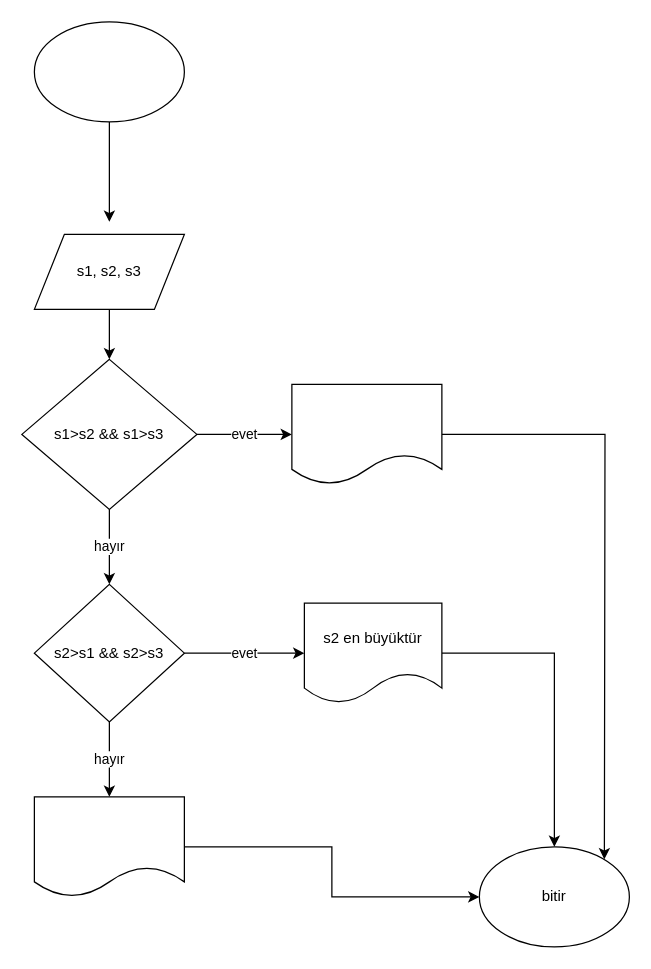
The diagram is 651 pixels wide and 969 high, and some of its shapes have lost their labels. Here are the shapes that lost their labels. From the top down, the box of each, then its label:
(33, 21, 184, 122): başla
(291, 383, 442, 484): s1 en büyüktür
(33, 796, 184, 897): s3 en büyüktür
